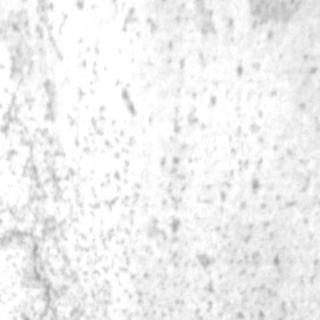pitted_surface: (77, 0, 315, 310), (2, 35, 90, 315)
